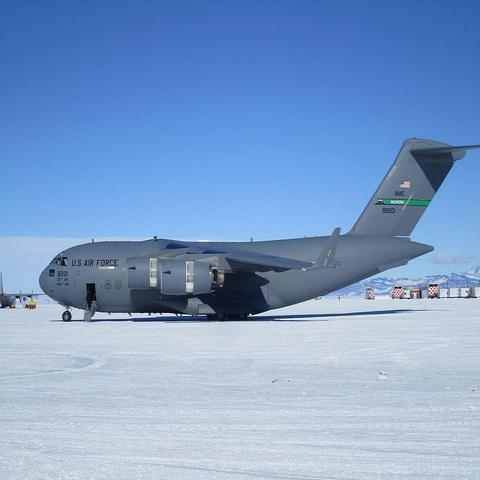truck: (28, 302, 36, 310)
